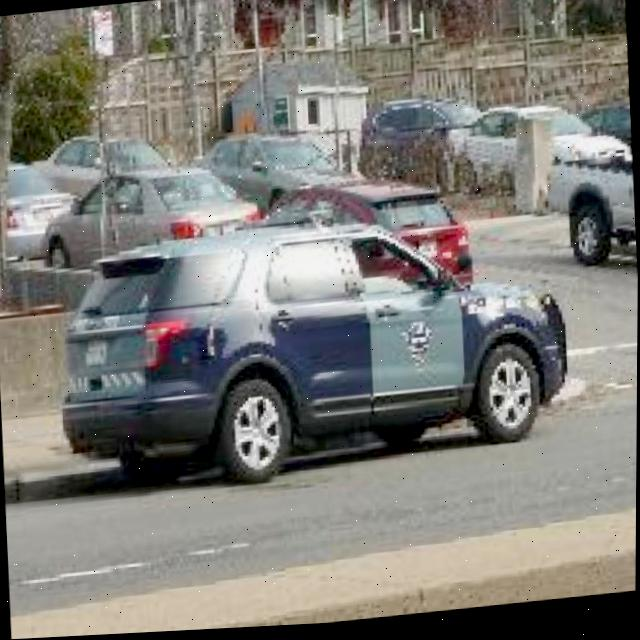emergency: (51, 198, 578, 507)
